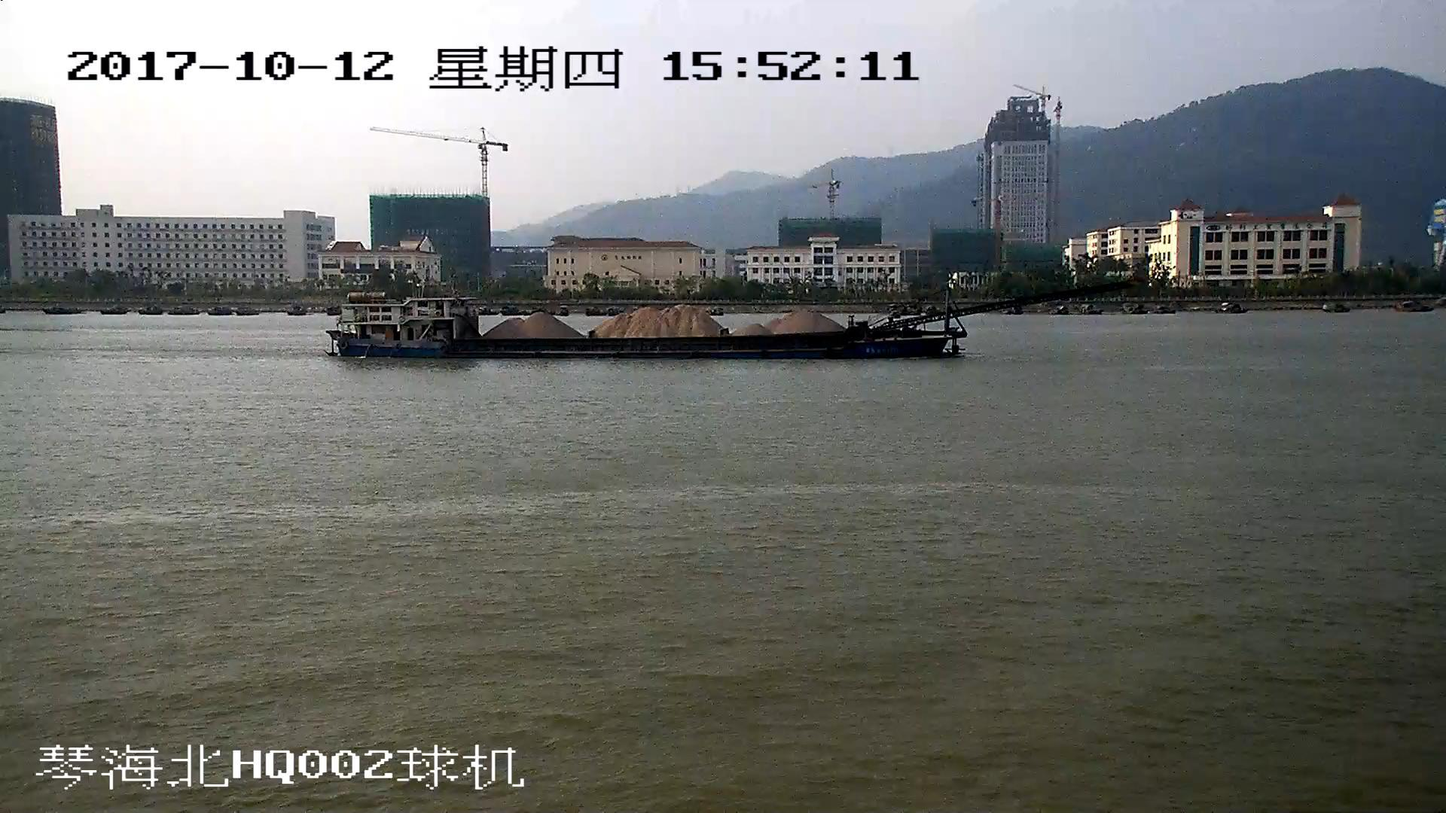ore carrier: (326, 282, 1122, 359)
